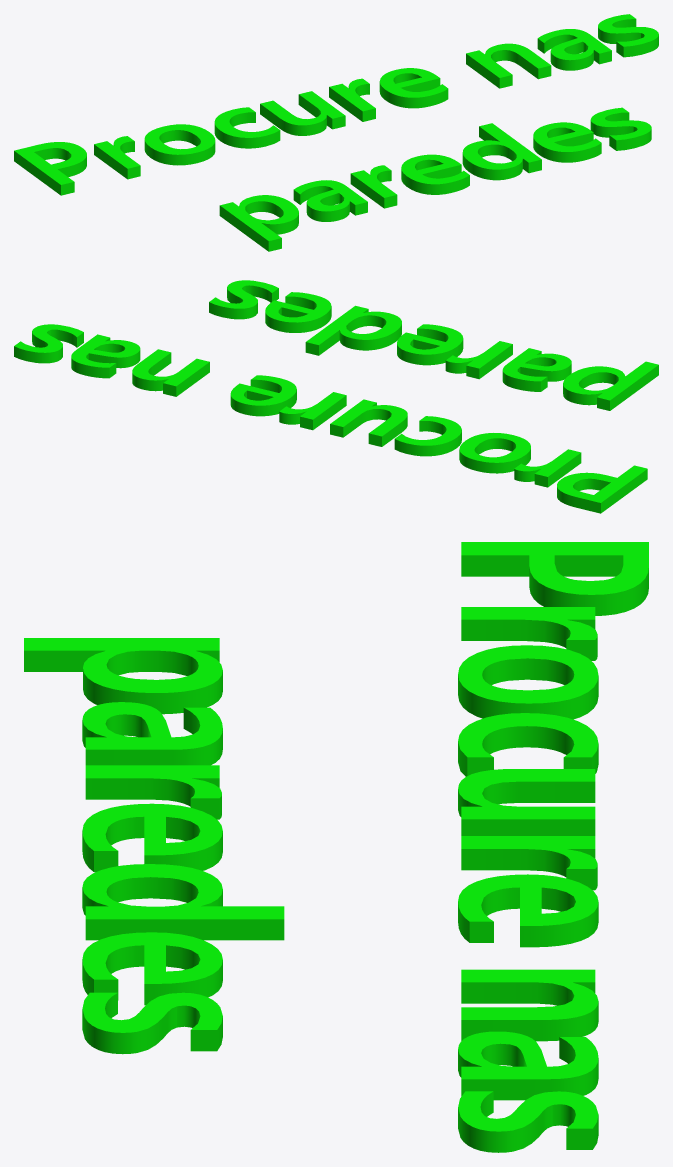
3 renders of one model, top to bottom at view 1: azimuth 30°, elevation 25°; view 2: azimuth 150°, elevation 25°; view 3: azimuth 270°, elevation 25°, orthographic. The views are drawn at different scales.
Visible parts, largest first — view 1: Procure_nas_pare1; view 2: Procure_nas_pare1; view 3: Procure_nas_pare1.
Boxes of the visible parts, <box> form: Procure_nas_pare1: <box>14,14,658,251</box>; Procure_nas_pare1: <box>14,280,658,513</box>; Procure_nas_pare1: <box>24,542,648,1152</box>.
Bounding box in the file's own units: 1.79 × 0.03 × 0.8001.
